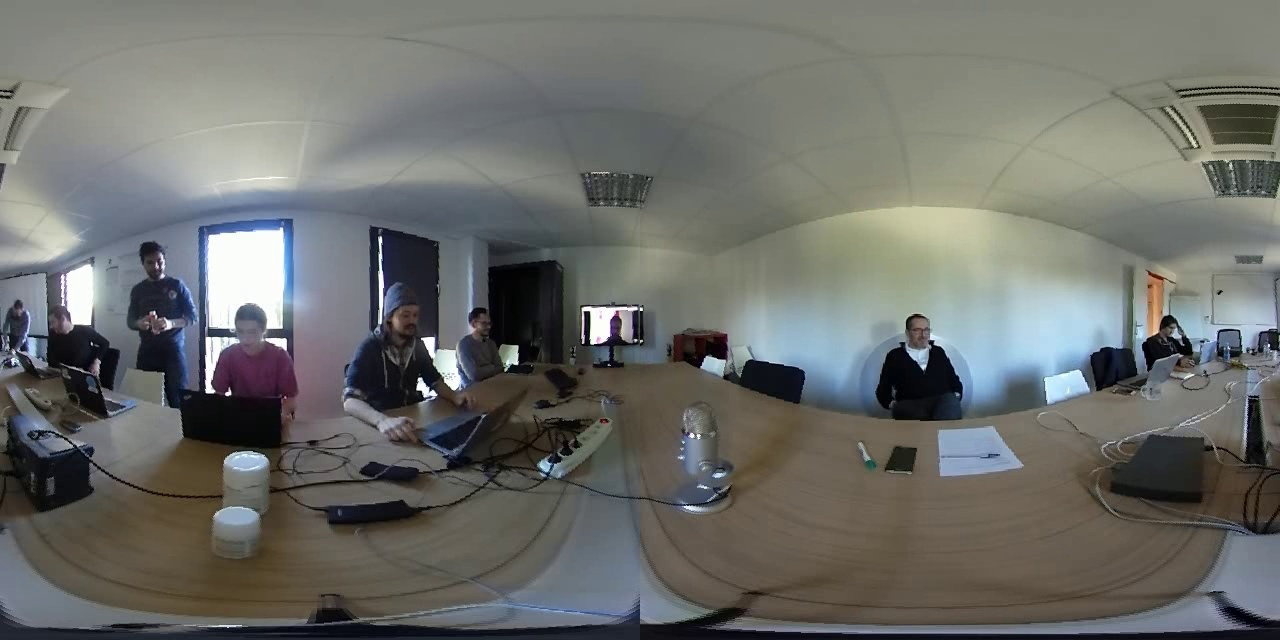person: (334, 274, 441, 419), (866, 307, 982, 421), (205, 295, 299, 404), (123, 238, 202, 365), (448, 292, 514, 398), (1126, 298, 1201, 374), (38, 309, 101, 363), (588, 309, 641, 338), (7, 301, 34, 345)
